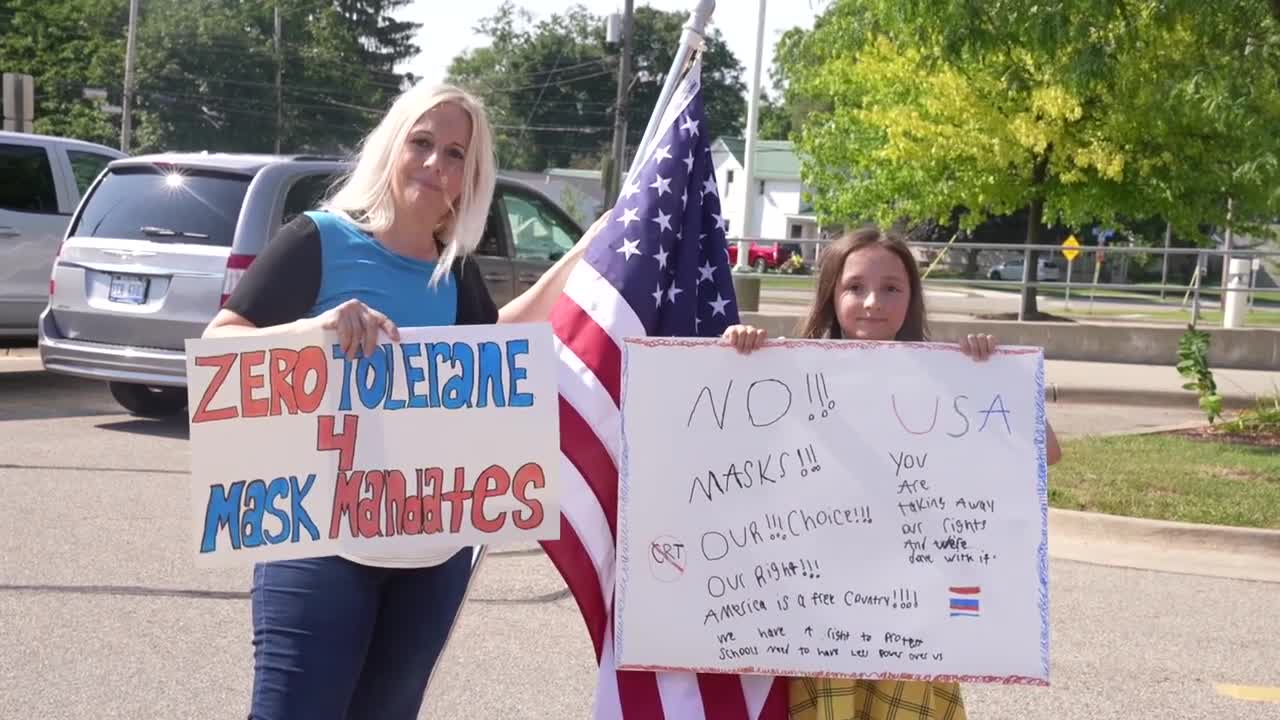without_mask: (399, 121, 462, 216), (843, 268, 906, 336)
